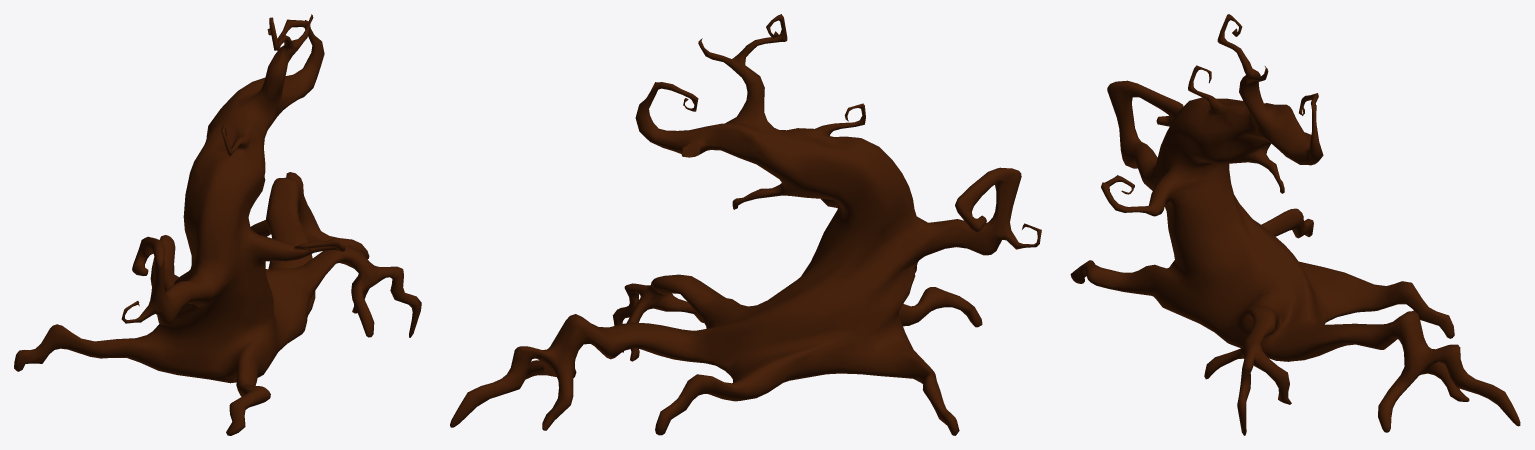
File: Tree_2_4K.fbx
3 renders of one model, left to right at view 1: azimuth 30°, elevation 25°; view 2: azimuth 150°, elevation 25°; view 3: azimuth 270°, elevation 25°, orthographic. The views are drawn at different scales.
Visible parts, largest first — view 1: Tree 2 4K; view 2: Tree 2 4K; view 3: Tree 2 4K.
Boxes of the visible parts, x1,y1,x2,y2 form: Tree 2 4K: [14, 14, 421, 435]; Tree 2 4K: [450, 14, 1041, 435]; Tree 2 4K: [1070, 14, 1520, 435].
Size of the model in its own units: 589 by 517 by 599.
